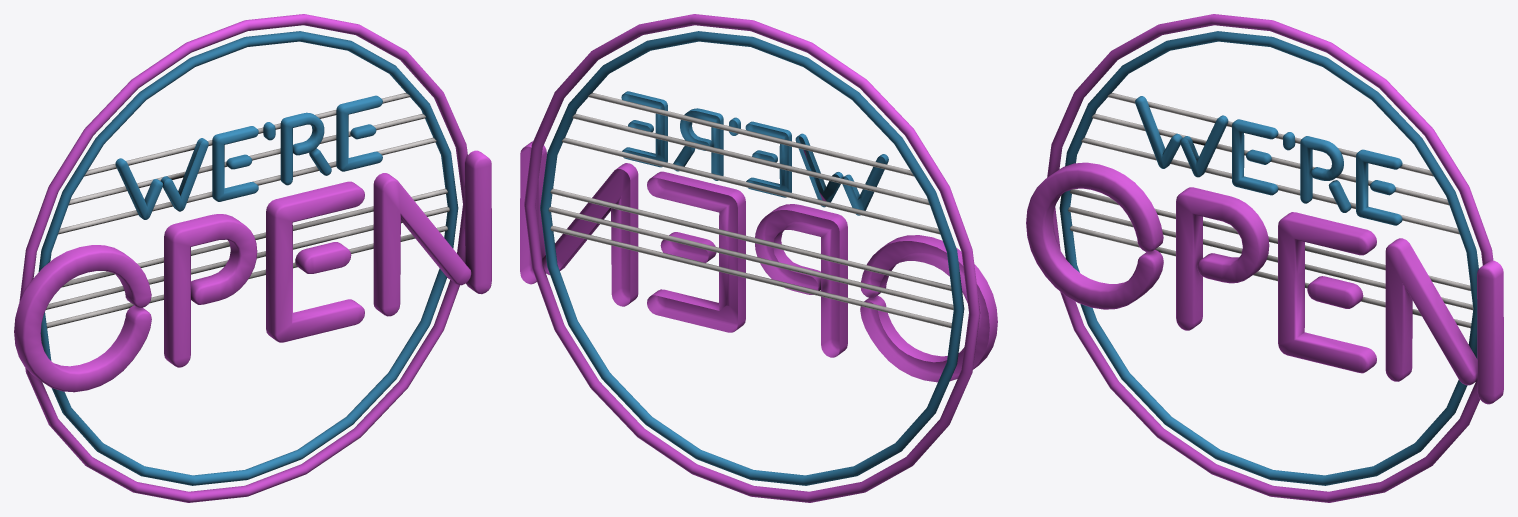
File: video_store_open_sign.obj
3 views of the same model, side by side, from view 1: azimuth 30°, elevation 25°; view 2: azimuth 150°, elevation 25°; view 3: azimuth 330°, elevation 25° (orthographic).
Visible parts, largest first — view 1: Mesh14_WE_RE1_Group1_Model; view 2: Mesh14_WE_RE1_Group1_Model; view 3: Mesh14_WE_RE1_Group1_Model.
Boxes of the visible parts, left/top/right/bottom form: Mesh14_WE_RE1_Group1_Model: left=14, top=14, right=491, bottom=502; Mesh14_WE_RE1_Group1_Model: left=520, top=14, right=997, bottom=502; Mesh14_WE_RE1_Group1_Model: left=1026, top=14, right=1503, bottom=502.
Size of the model in its own units: 0.5281 by 0.511 by 0.0285.
Materials: 1 (1 with a texture image).
